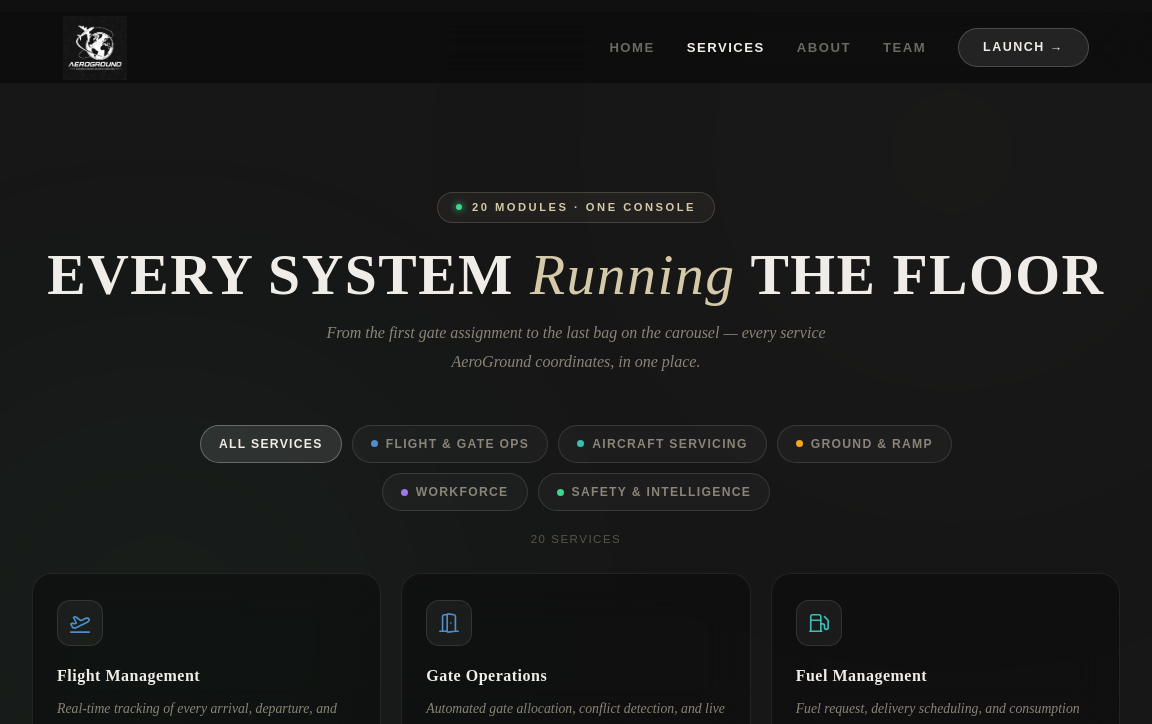
Services › filters services when a category tab is clicked
Step 1. Click the button "Flight & Gate Ops" → (450, 444), box [352, 425, 548, 463]
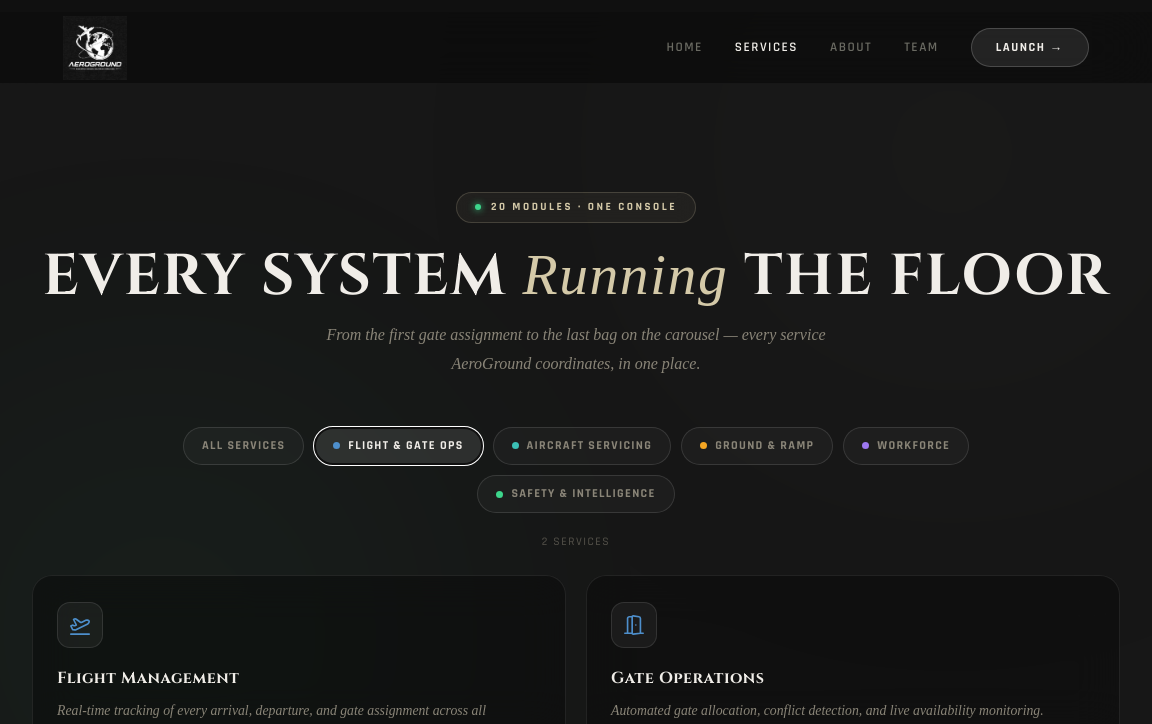
Expected: the heading "Flight Management" is shown, [57, 667, 239, 689]
Expected: the text "2 services" is shown, [542, 534, 610, 549]
Expected: the heading "Fuel Management" is gone
